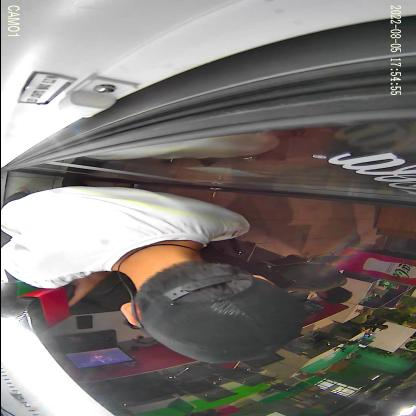red: (12, 286, 74, 335)
